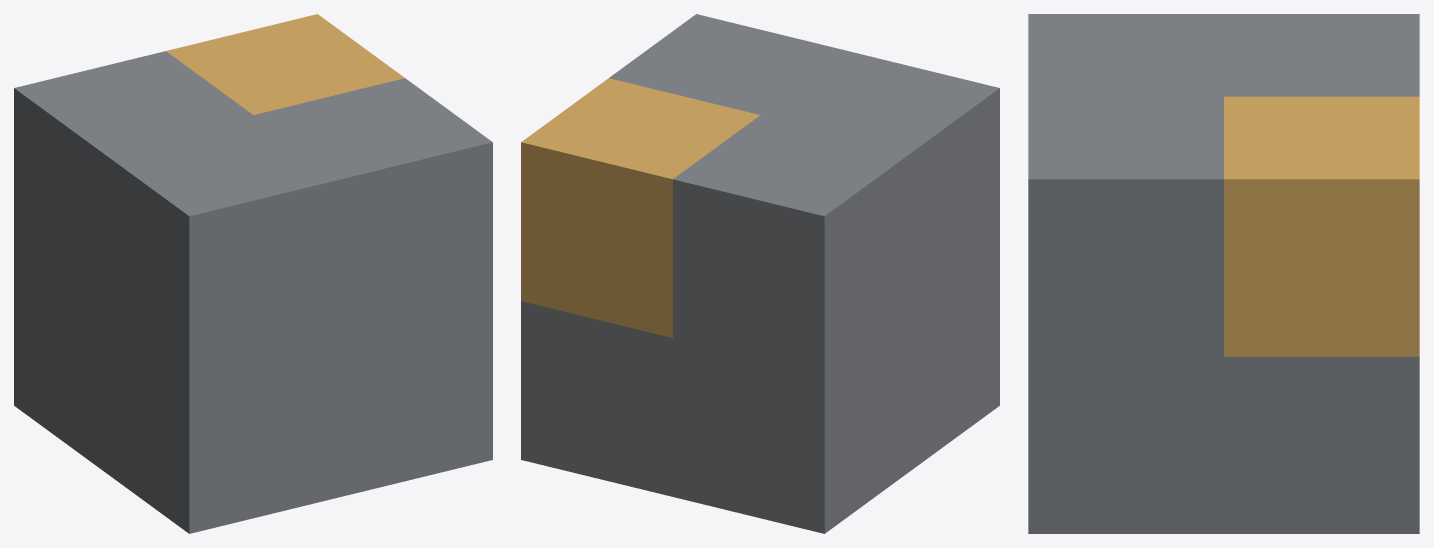
File: muzzle.glb
3 views of the same model, side by side, from view 1: azimuth 30°, elevation 25°; view 2: azimuth 150°, elevation 25°; view 3: azimuth 270°, elevation 25° (orthographic). The views are drawn at different scales.
Bounding box in the file's own units: 2 × 2 × 2.
